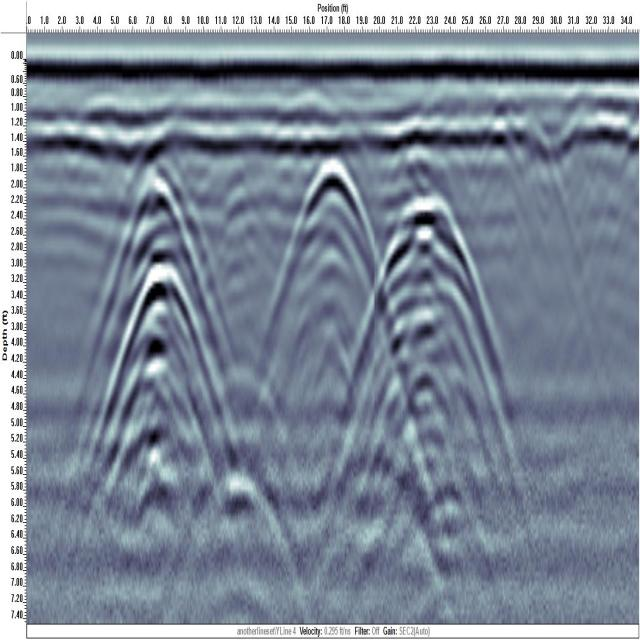hyperbola: (372, 180, 486, 405), (112, 161, 210, 377), (291, 140, 378, 360), (110, 249, 205, 441)
